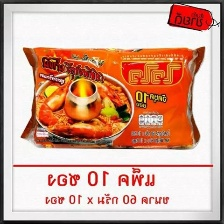snack: (15, 39, 212, 154)
